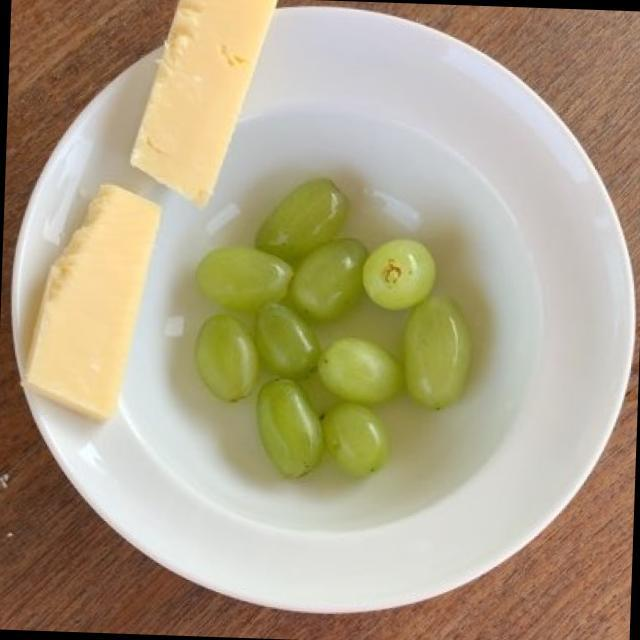Cheese: (23, 178, 164, 420), (125, 0, 279, 203)
Grapes: (190, 182, 483, 489)
